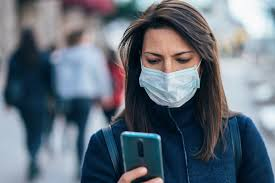FaceMask: (139, 65, 200, 108)
